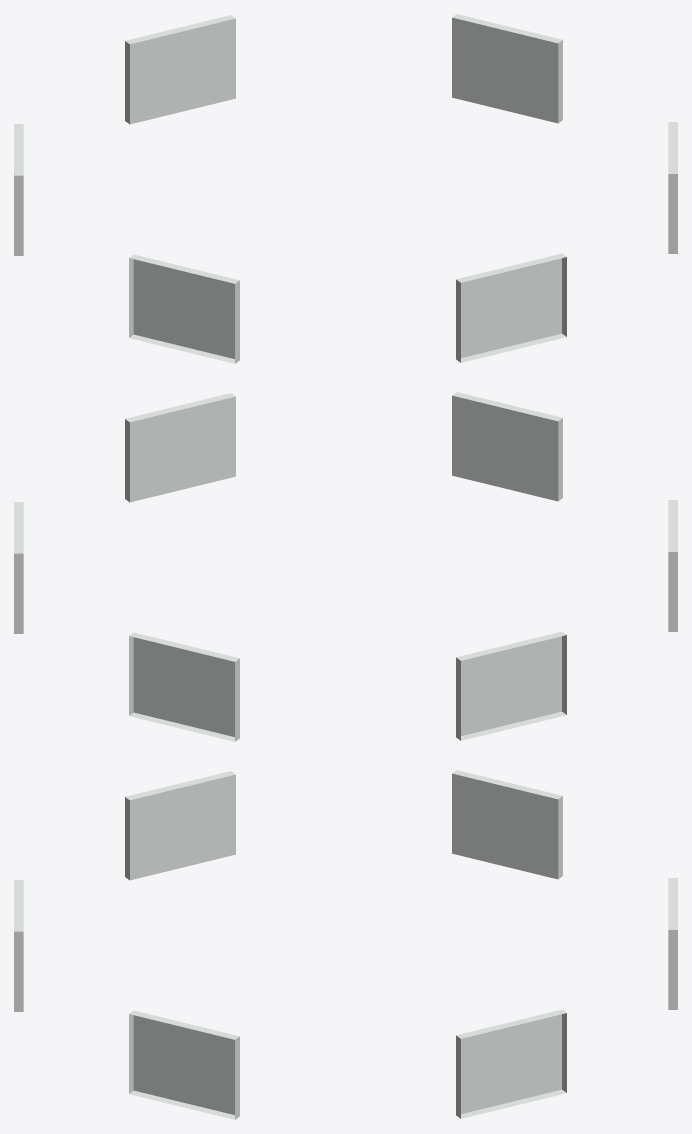
File: NoDorr1.fbx
3 views of the same model, one above another, from view 1: azimuth 30°, elevation 25°; view 2: azimuth 150°, elevation 25°; view 3: azimuth 270°, elevation 25° (orthographic).
Visible parts, largest first — view 1: NoDoor, NoDoor.002, NoDoor.003, NoDoor.005, NoDoor.001, NoDoor.004; view 2: NoDoor, NoDoor.001, NoDoor.003, NoDoor.004, NoDoor.002, NoDoor.005; view 3: NoDoor.001, NoDoor.002, NoDoor.004, NoDoor.005, NoDoor, NoDoor.003.
Boxes of the visible parts, x1,y1,x2,y2 form: NoDoor: [125, 15, 235, 124]; NoDoor.002: [129, 254, 239, 363]; NoDoor.003: [456, 253, 566, 362]; NoDoor.005: [452, 14, 562, 123]; NoDoor.001: [14, 124, 23, 255]; NoDoor.004: [668, 122, 677, 253]; NoDoor: [129, 632, 239, 741]; NoDoor.001: [456, 631, 566, 740]; NoDoor.003: [452, 392, 562, 501]; NoDoor.004: [125, 393, 235, 502]; NoDoor.002: [668, 500, 677, 631]; NoDoor.005: [14, 502, 23, 633]; NoDoor.001: [452, 770, 562, 879]; NoDoor.002: [125, 771, 235, 880]; NoDoor.004: [129, 1010, 239, 1119]; NoDoor.005: [456, 1009, 566, 1118]; NoDoor: [668, 878, 677, 1009]; NoDoor.003: [14, 880, 23, 1011].
Size of the model in its own units: 7702 by 1066 by 8009.
